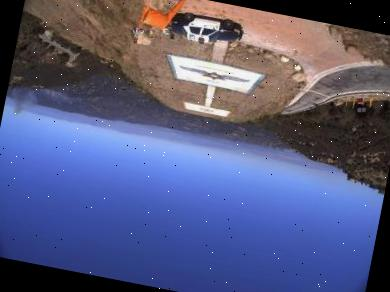smoke: (5, 77, 90, 131)
